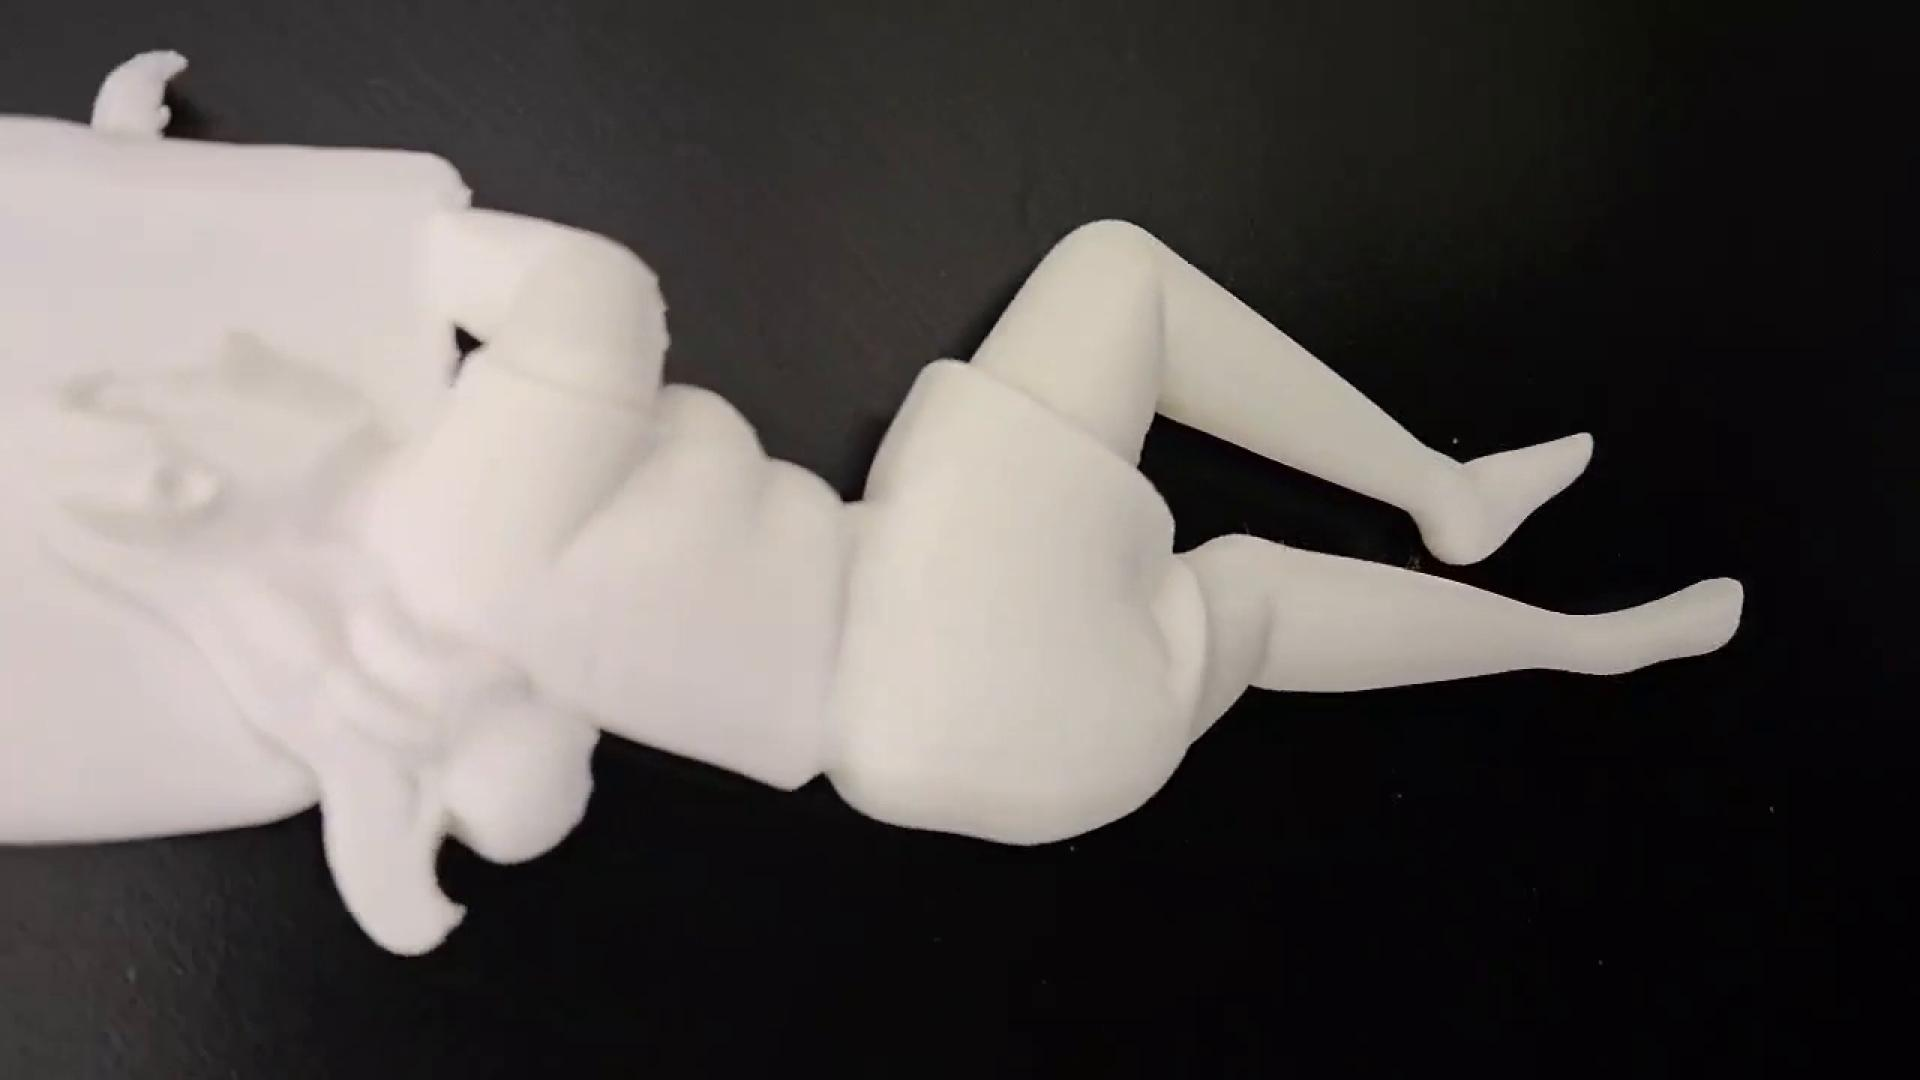Good-style: (0, 40, 1762, 969)
